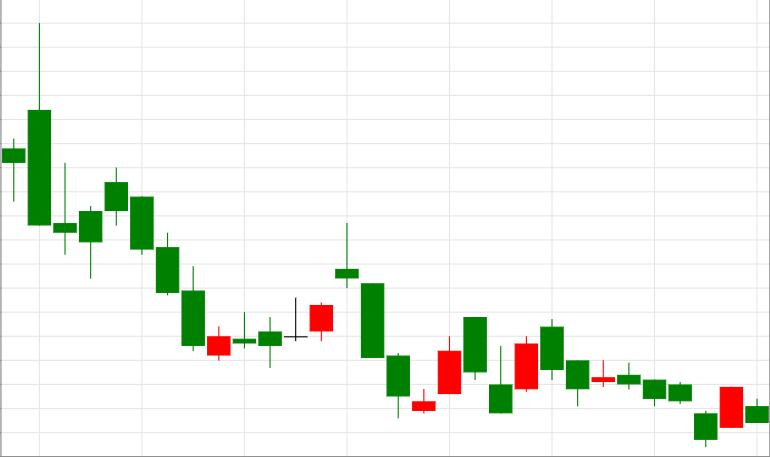evening_star_fall: (208, 224, 384, 367)
